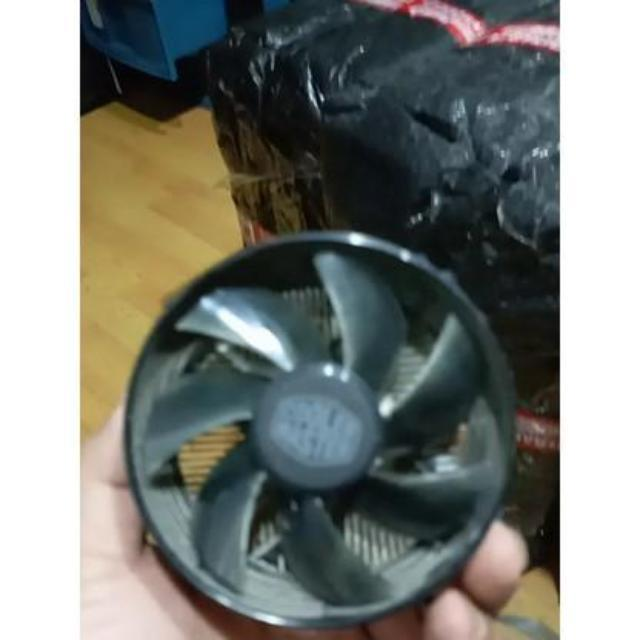CPU_Fan: (120, 232, 518, 630)
